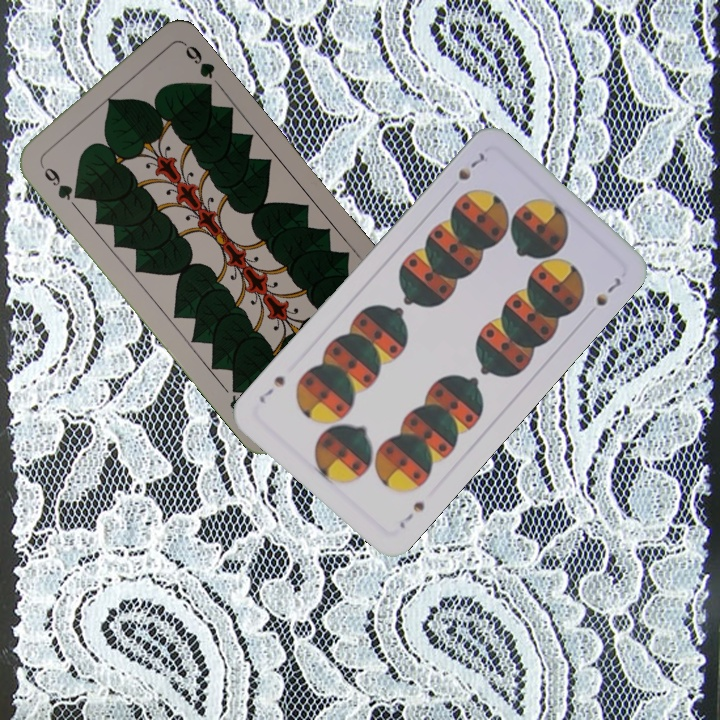G9: (36, 158, 84, 203)
S7: (454, 148, 491, 183), (395, 497, 427, 532)
